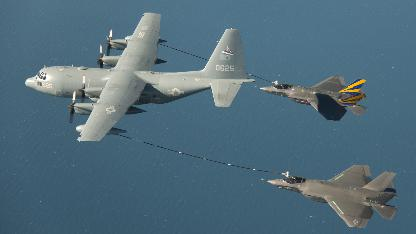Be200: (25, 12, 256, 142)
F22: (257, 164, 397, 228), (251, 76, 367, 121)
